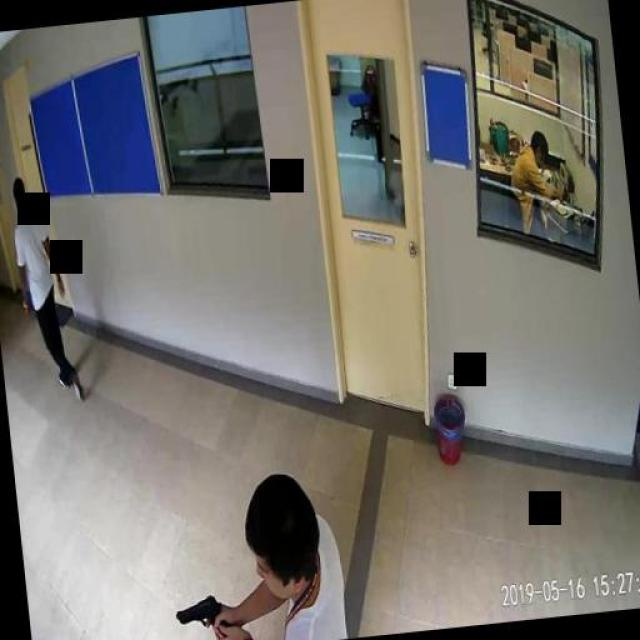gun: (172, 592, 228, 640)
